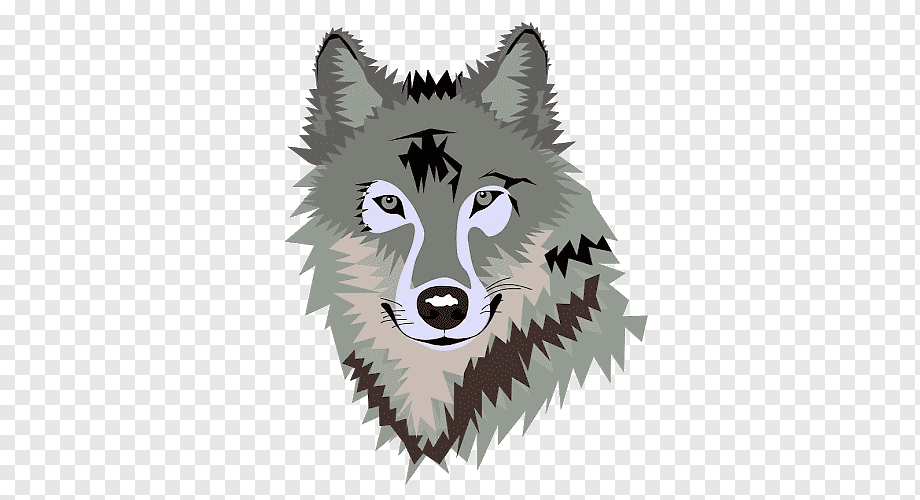Lobo: (281, 22, 679, 466)
